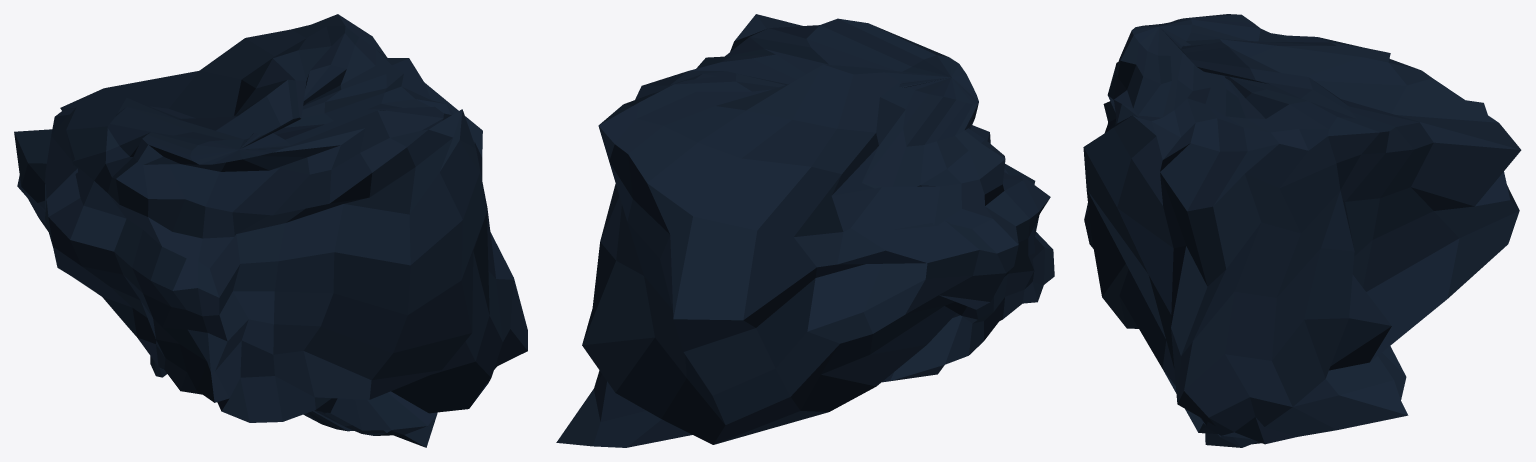
Rendered from rock007.FBX.
3 views of the same model, side by side, from view 1: azimuth 30°, elevation 25°; view 2: azimuth 150°, elevation 25°; view 3: azimuth 270°, elevation 25° (orthographic). The views are drawn at different scales.
Parts seen in each view (by area): view 1: rock_007; view 2: rock_007; view 3: rock_007.
Part boxes in pixels (box(x1,y1,x2,y2)): rock_007: box(14, 14, 527, 447); rock_007: box(556, 14, 1054, 447); rock_007: box(1083, 14, 1521, 447).
Bounding box in the file's own units: 16.89 × 14.86 × 17.15.
